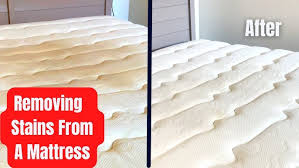bed-matress: (1, 13, 149, 168), (153, 36, 299, 168)
